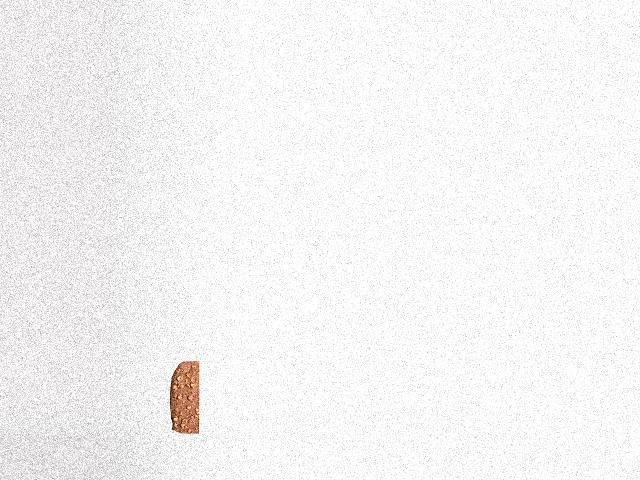chocolate: (164, 361, 202, 433)
